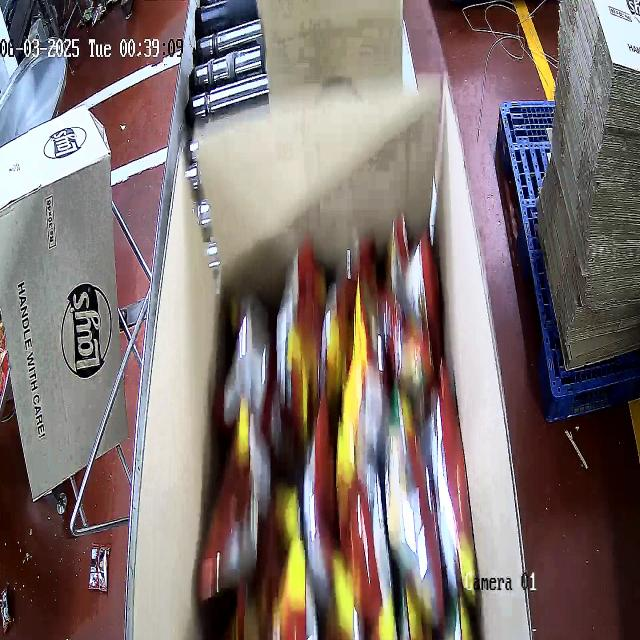MASALA: (196, 212, 474, 638)
